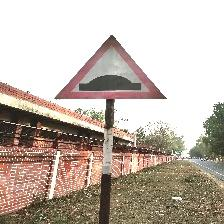Speed-breaker: (56, 38, 164, 99)
